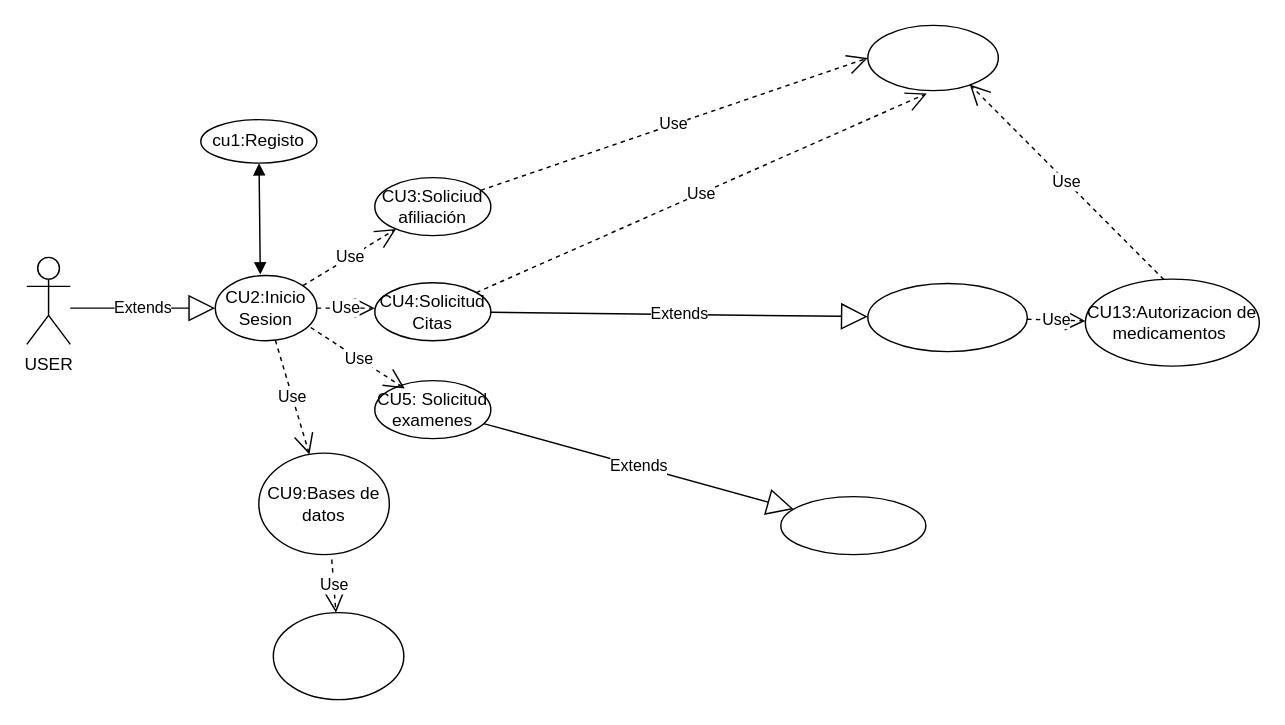
Image size: 1285x725. Some labels were removed from this diagram. The centre of each missing label's shape, as x and y in pixels:
"CU10: Historial medico paciente" goes at (338,655).
"CU12:Receta de medicamentos" goes at (946,317).
"CU16: Copago" goes at (932,57).
"CU8: Lectura de resultados" goes at (852,525).
